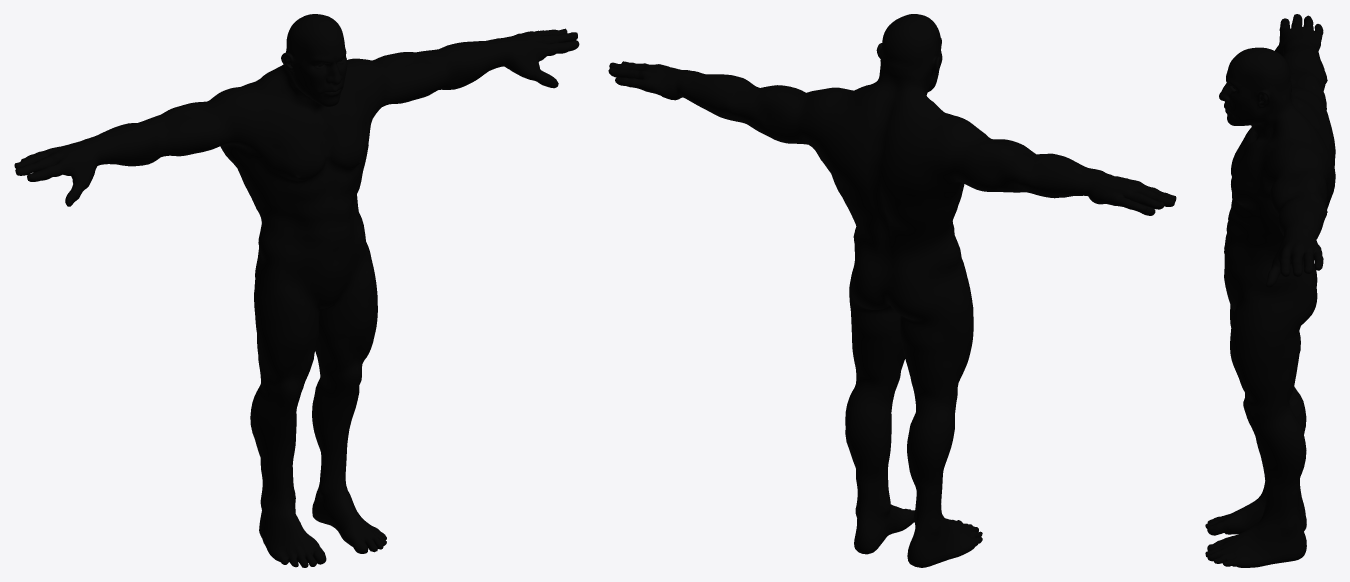
The picture shows the model from 3 angles, left to right: view 1: azimuth 30°, elevation 25°; view 2: azimuth 150°, elevation 25°; view 3: azimuth 270°, elevation 25°; orthographic projection. The views are drawn at different scales.
Visible parts, largest first — view 1: New object; view 2: New object; view 3: New object.
Part boxes in pixels (x1,y1,x2,y2): New object: (14,14,579,567); New object: (608,14,1176,567); New object: (1205,14,1335,567).
Bounding box in the file's own units: 239 × 214 × 50.83.
Materials: 1 (1 with a texture image).
